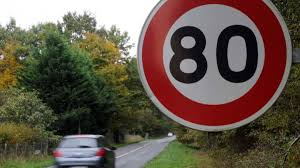Speed_limit_80km: (138, 1, 294, 132)
